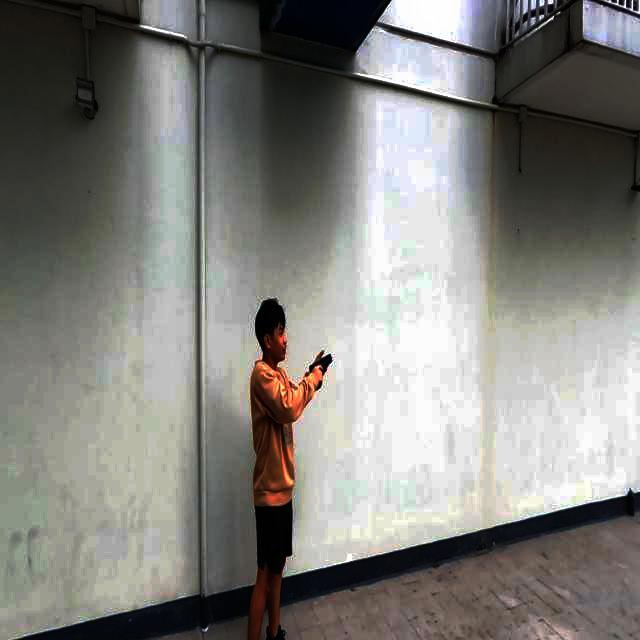Gun: (308, 347, 342, 395)
